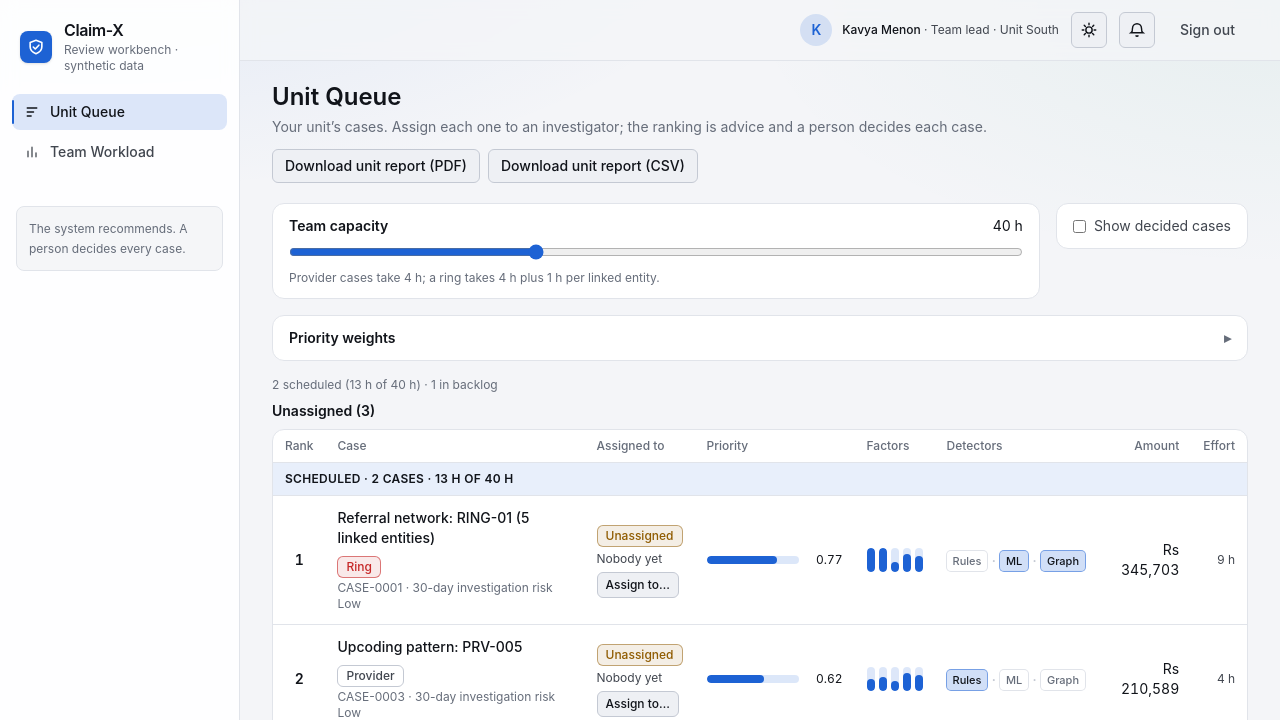
Test case: signing in › signing out clears the token and returns to the login page
This screenshot has width=1280, height=720.
What coordinates should you click on to do the following:
click the button "Sign out"
I would click on:
 (1208, 30)
Its box is [1167, 13, 1248, 47].
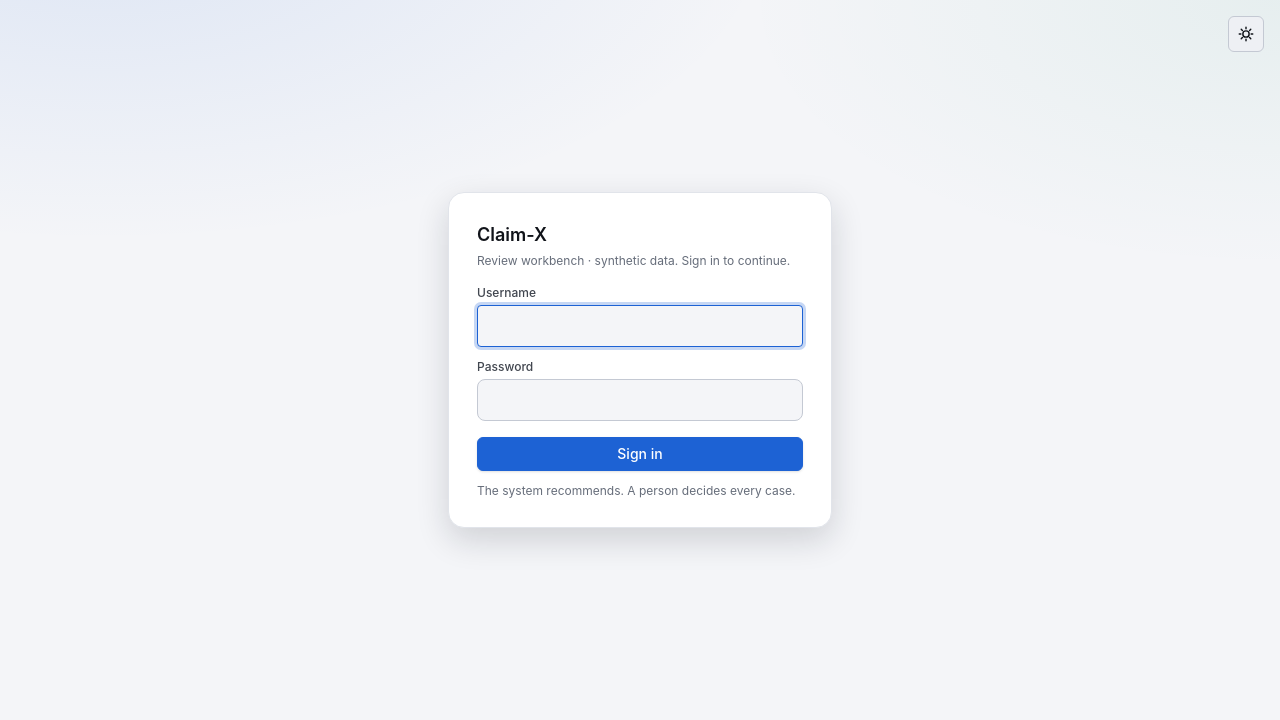
Now the field labelled "Username" is shown, box [477, 305, 803, 347]
